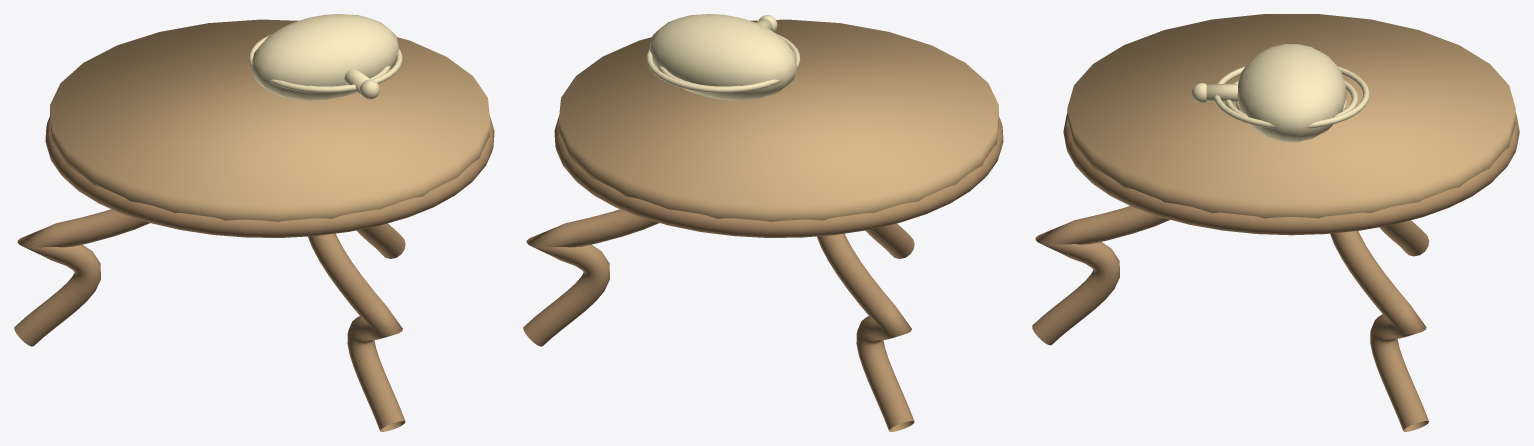
The model's file is round-table.glb.
The picture shows the model from 3 angles, left to right: view 1: azimuth 30°, elevation 25°; view 2: azimuth 150°, elevation 25°; view 3: azimuth 270°, elevation 25°; orthographic projection.
Parts seen in each view (by area): view 1: table_top, shell_phone_body, table_rim, table_leg_1, table_leg_2, shell_ridge_3, table_leg_0; view 2: table_top, shell_phone_body, table_rim, table_leg_0, table_leg_1, shell_ridge_3, table_leg_2; view 3: table_top, table_rim, shell_phone_body, table_leg_2, table_leg_0, shell_ridge_3, table_leg_1, shell_receiver.
Boxes of the visible parts, <box> form: table_top: <box>50,19,489,221</box>; shell_phone_body: <box>252,14,399,100</box>; table_rim: <box>45,115,494,237</box>; table_leg_1: <box>14,209,149,346</box>; table_leg_2: <box>308,233,405,431</box>; shell_ridge_3: <box>248,34,402,92</box>; table_leg_0: <box>356,223,405,258</box>; table_top: <box>559,19,998,221</box>; shell_phone_body: <box>649,14,796,100</box>; table_rim: <box>554,115,1003,237</box>; table_leg_0: <box>523,209,658,346</box>; table_leg_1: <box>817,233,914,431</box>; shell_ridge_3: <box>646,34,800,92</box>; table_leg_2: <box>865,223,914,258</box>; table_top: <box>1067,14,1515,218</box>; table_rim: <box>1063,112,1519,235</box>; shell_phone_body: <box>1237,44,1346,142</box>; table_leg_2: <box>1032,206,1169,345</box>; table_leg_0: <box>1330,231,1429,431</box>; shell_ridge_3: <box>1214,66,1369,128</box>; table_leg_1: <box>1379,220,1429,256</box>; shell_receiver: <box>1206,84,1237,101</box>.
Size of the model in its own units: 1.12 by 0.8484 by 1.2.
